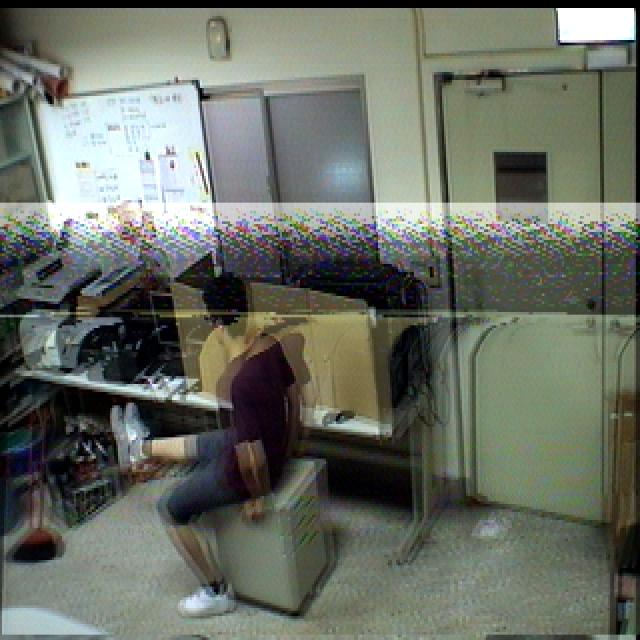sit: (113, 275, 305, 622)
